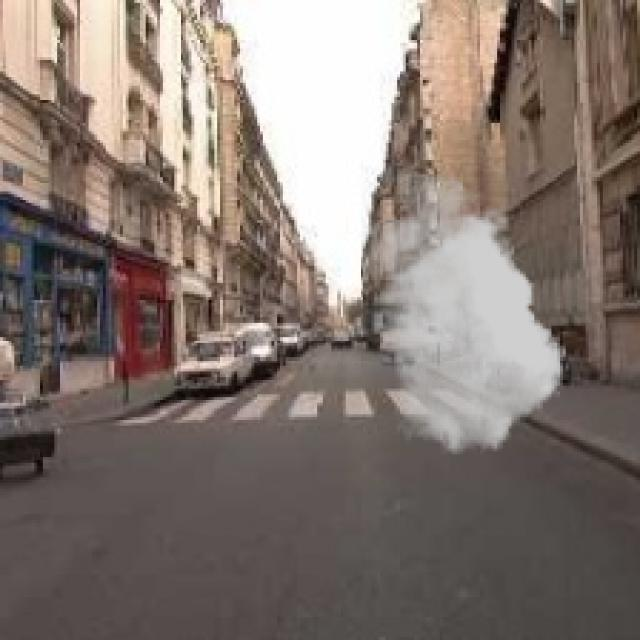smoke: (360, 174, 563, 454)
